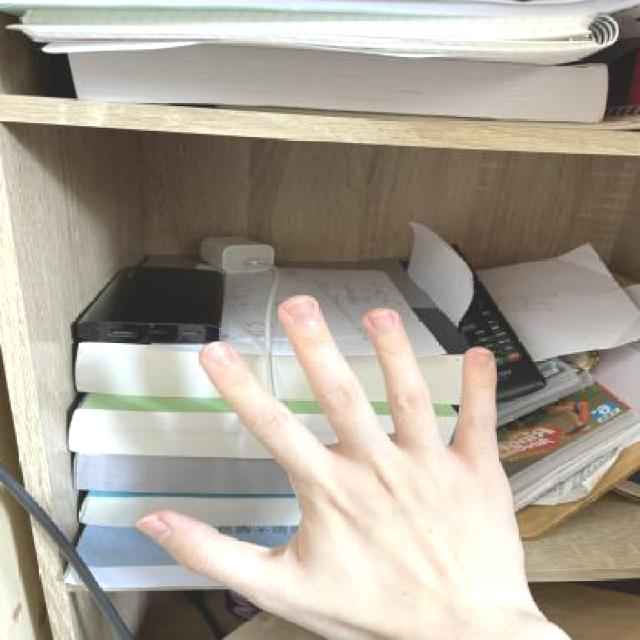no_glove: (127, 284, 556, 638)
